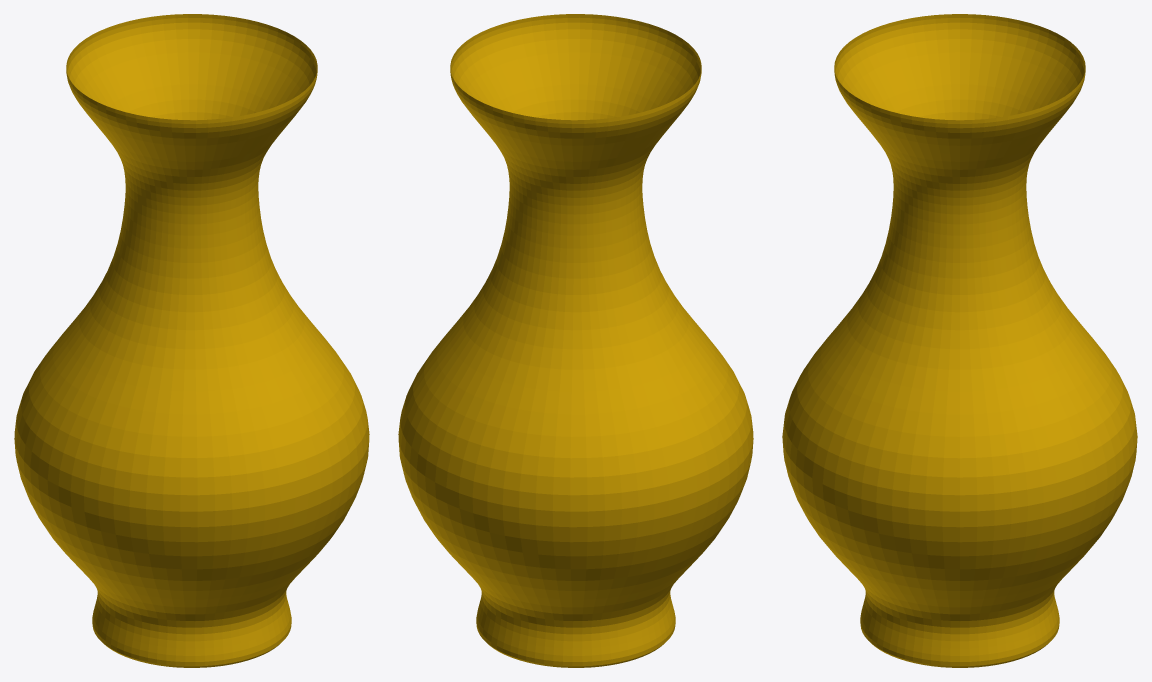
File: vase.fbx
The picture shows the model from 3 angles, left to right: view 1: azimuth 30°, elevation 25°; view 2: azimuth 150°, elevation 25°; view 3: azimuth 270°, elevation 25°; orthographic projection.
Parts seen in each view (by area): view 1: Circle; view 2: Circle; view 3: Circle.
Boxes of the visible parts, bbox=[...] form: Circle: bbox=[14, 14, 369, 667]; Circle: bbox=[398, 14, 753, 667]; Circle: bbox=[782, 14, 1137, 667].
Bounding box in the file's own units: 310 × 541 × 310.
